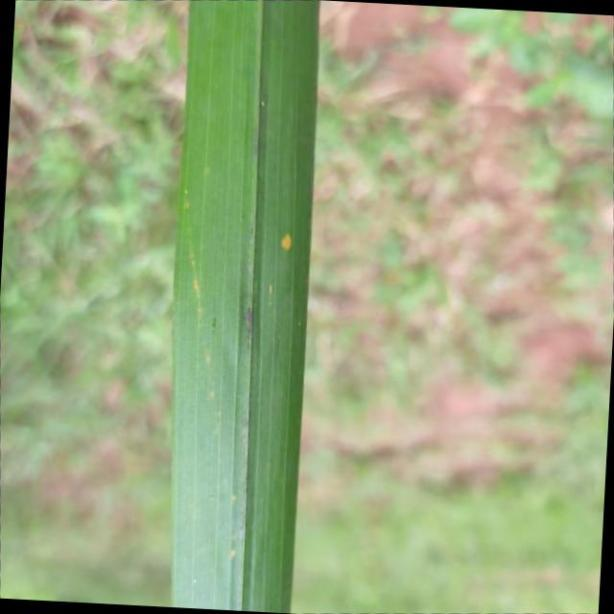Kalium: (171, 0, 321, 614)
